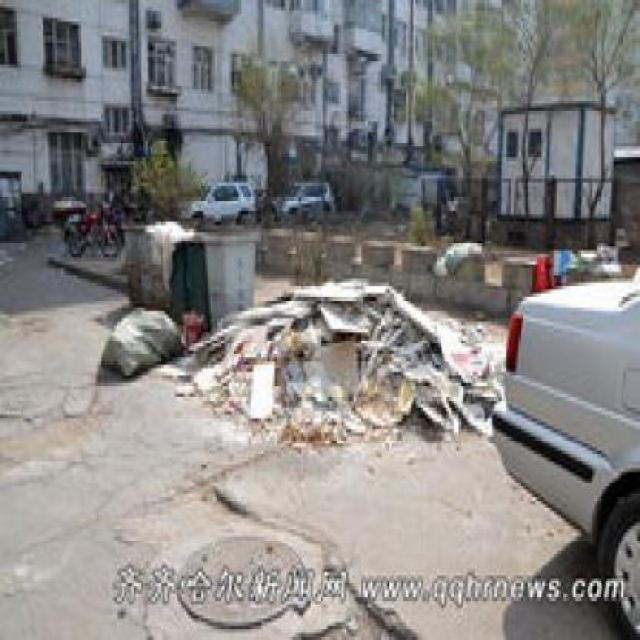garbage: (191, 279, 482, 440)
